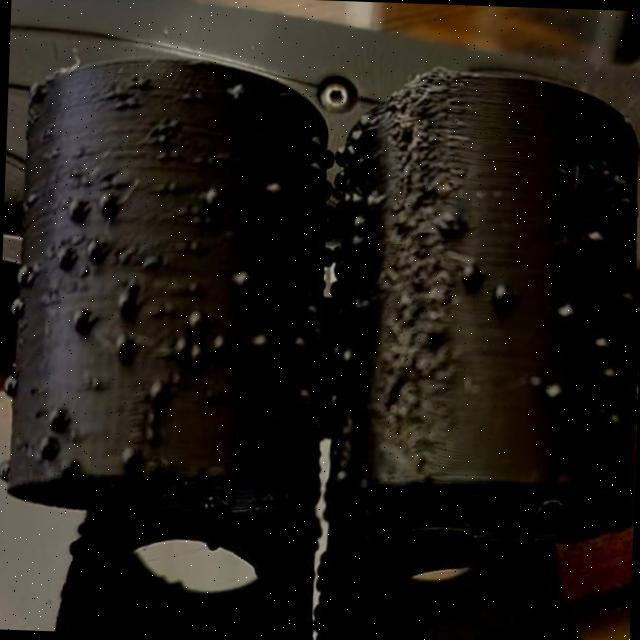blobs: (596, 404, 630, 440), (90, 180, 122, 218), (551, 292, 582, 330), (48, 238, 80, 274), (243, 326, 280, 356), (7, 256, 36, 294), (198, 177, 230, 211), (486, 278, 514, 316), (455, 250, 483, 288), (581, 218, 611, 252), (111, 284, 139, 320), (540, 373, 567, 409), (228, 263, 260, 293), (140, 376, 172, 406), (224, 75, 251, 110), (41, 403, 69, 434), (208, 329, 238, 357), (62, 194, 88, 226), (69, 304, 95, 336), (30, 426, 54, 460), (596, 360, 622, 390), (112, 334, 134, 367), (260, 171, 284, 200), (7, 290, 30, 320), (338, 338, 360, 369), (592, 330, 617, 356), (117, 438, 140, 466), (2, 366, 18, 402), (348, 214, 373, 237), (304, 156, 327, 180), (184, 342, 206, 367), (343, 230, 364, 256), (306, 128, 326, 155), (286, 334, 310, 356), (298, 300, 322, 322), (188, 305, 206, 333), (170, 336, 192, 358), (164, 113, 186, 134), (344, 120, 363, 142), (23, 187, 42, 208), (154, 126, 168, 147), (0, 458, 13, 480), (130, 75, 148, 90)
